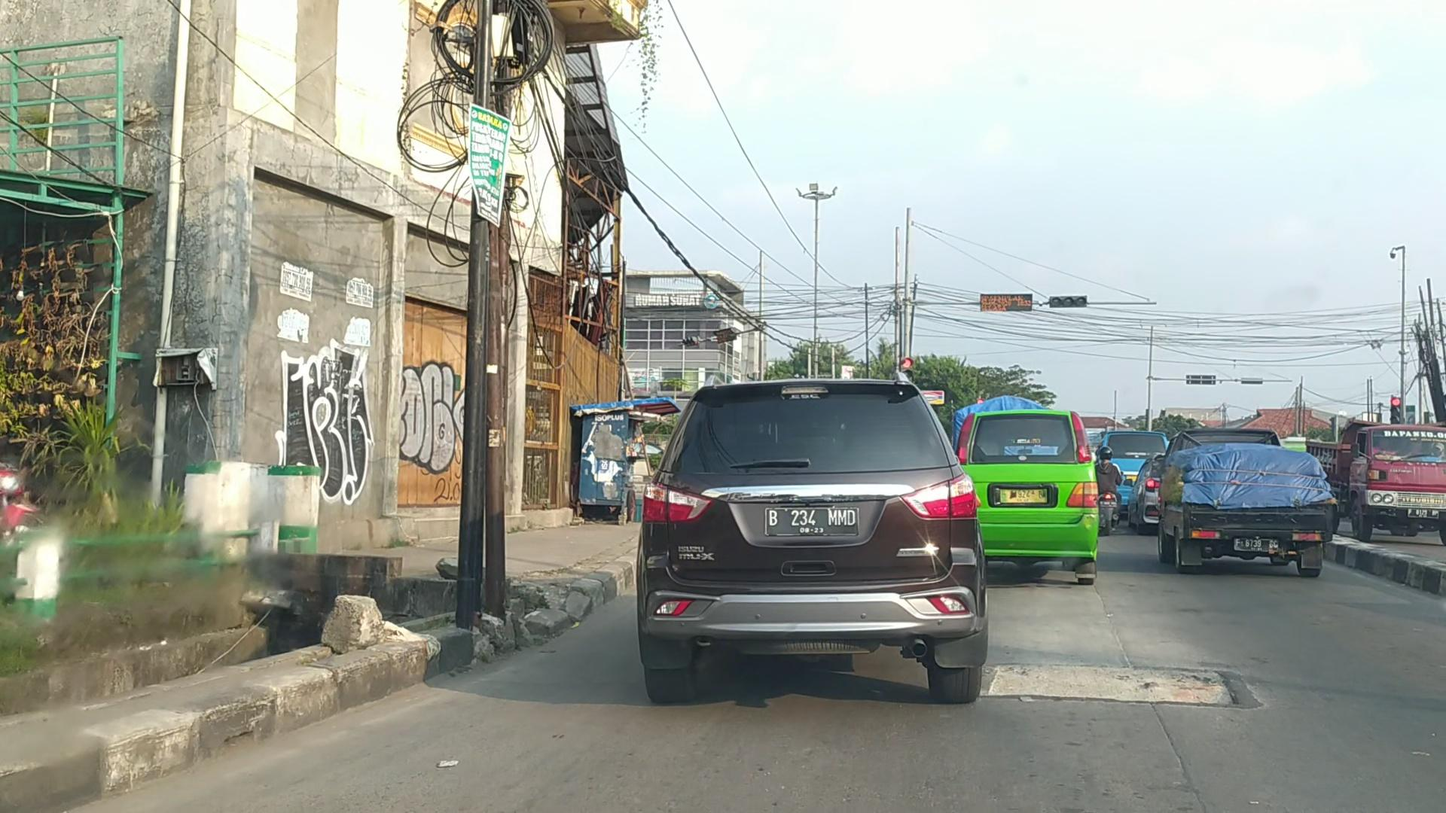pothole: (984, 662, 1241, 706)
